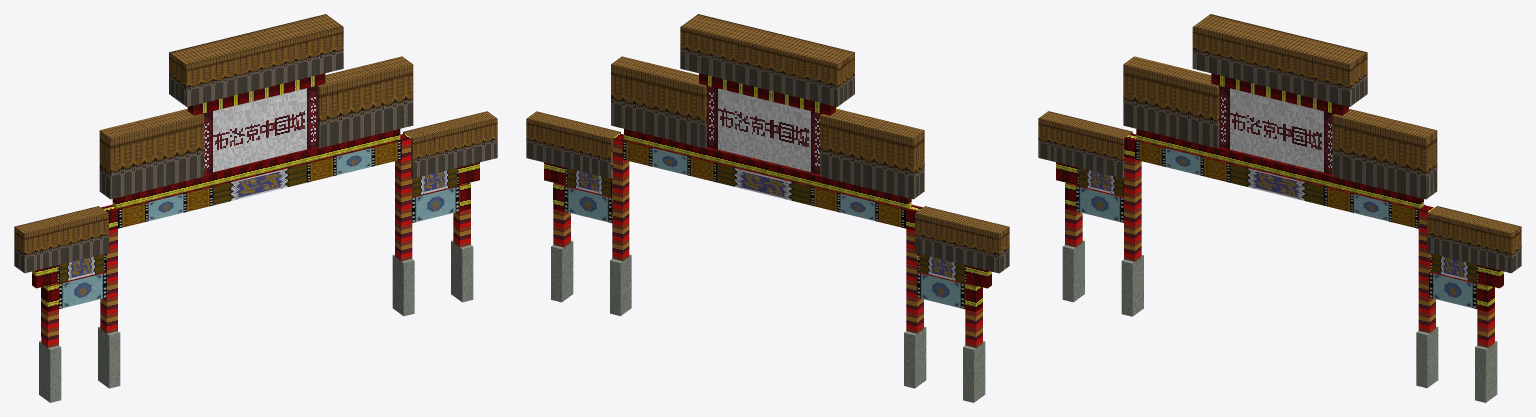
Rendered from BGN_CHINA TOWN GATE.fbx.
3 renders of one model, left to right at view 1: azimuth 30°, elevation 25°; view 2: azimuth 150°, elevation 25°; view 3: azimuth 330°, elevation 25°, orthographic.
Parts seen in each view (by area): view 1: BGN_CHINA_TOWN_GATE; view 2: BGN_CHINA_TOWN_GATE; view 3: BGN_CHINA_TOWN_GATE.
Boxes of the visible parts, x1=… form: BGN_CHINA_TOWN_GATE: x1=14, y1=14, x2=497, y2=402; BGN_CHINA_TOWN_GATE: x1=526, y1=14, x2=1009, y2=402; BGN_CHINA_TOWN_GATE: x1=1038, y1=14, x2=1521, y2=402.
Bounding box in the file's own units: 3082 × 1915 × 200.
